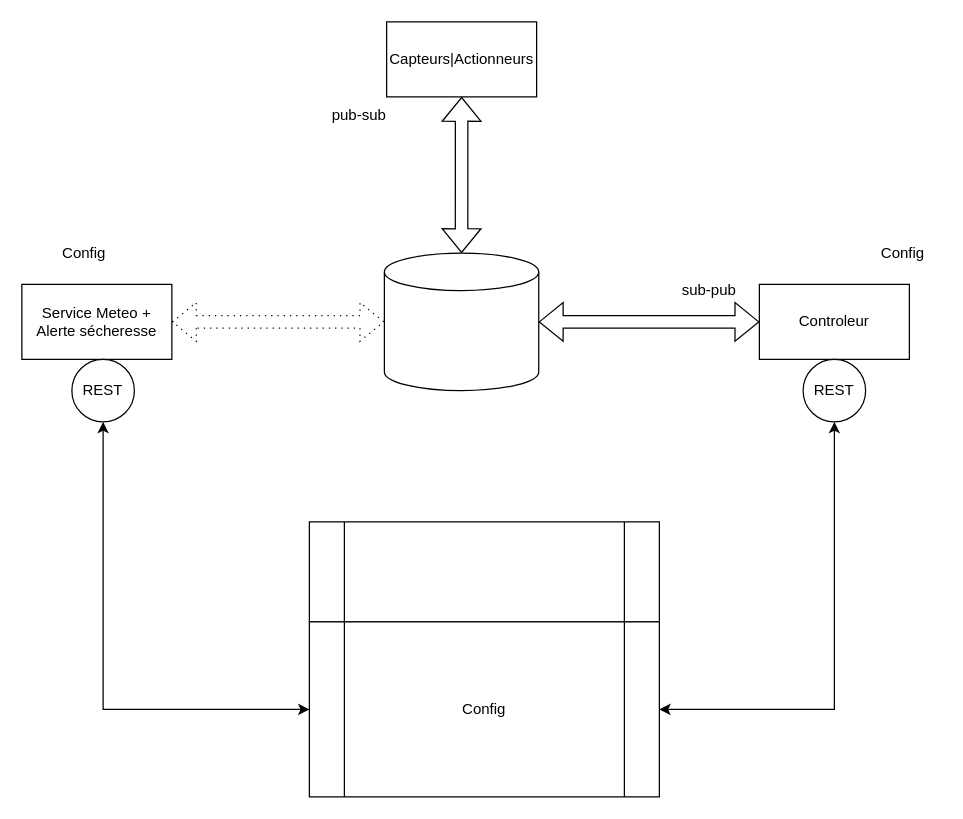
This 963x819 diagram has some shape labels left out. The centre of each missing label's shape, as x and y in pixels:
"DASHBOARD" goes at [483,571].
"MQTT Brocker" goes at [461,321].
